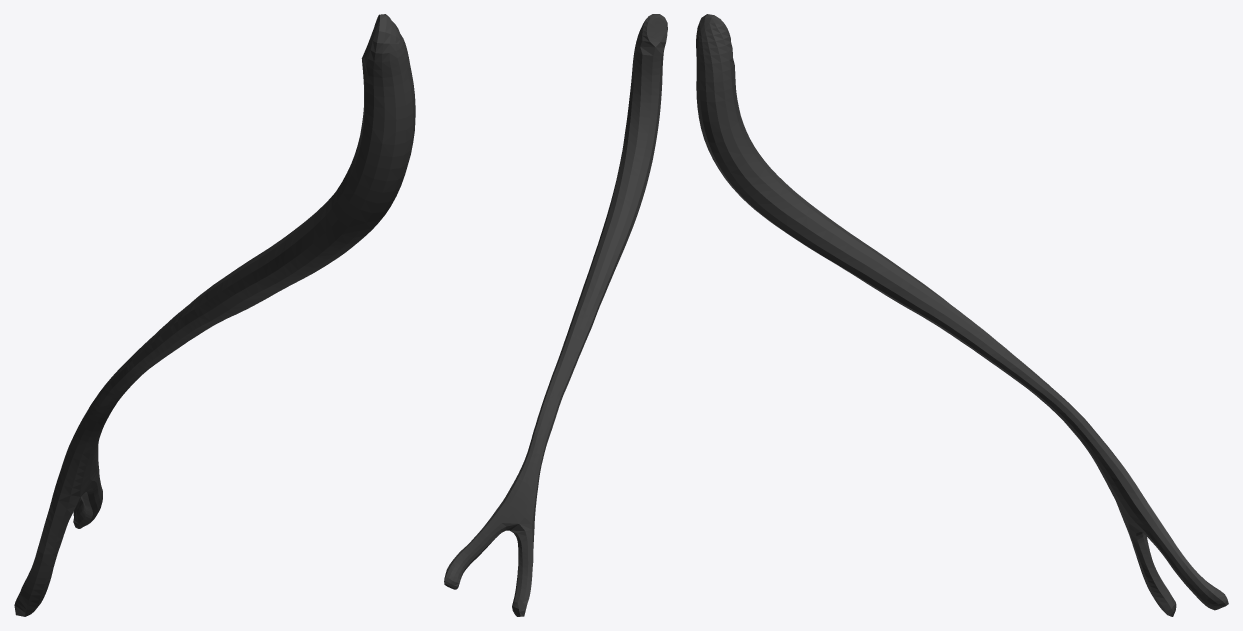
File: Peroneus_tertius.glb
3 views of the same model, side by side, from view 1: azimuth 30°, elevation 25°; view 2: azimuth 150°, elevation 25°; view 3: azimuth 270°, elevation 25° (orthographic). The views are drawn at different scales.
Visible parts, largest first — view 1: Peroneus_tertius; view 2: Peroneus_tertius; view 3: Peroneus_tertius.
Part boxes in pixels (x1=…): Peroneus_tertius: x1=14, y1=14, x2=415, y2=616; Peroneus_tertius: x1=444, y1=14, x2=667, y2=616; Peroneus_tertius: x1=696, y1=14, x2=1228, y2=616.
Size of the model in its own units: 11.15 by 78.55 by 60.77.
1 material, 1 textured.
